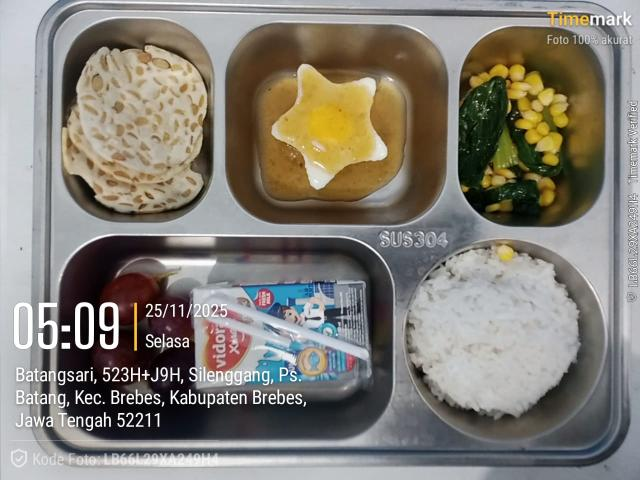buah: (92, 314, 194, 397), (98, 272, 182, 326)
nasi: (408, 248, 580, 420)
sayur: (458, 64, 572, 215)
susu: (190, 280, 372, 400)
telur: (272, 64, 386, 188)
tempe: (62, 45, 208, 213)
